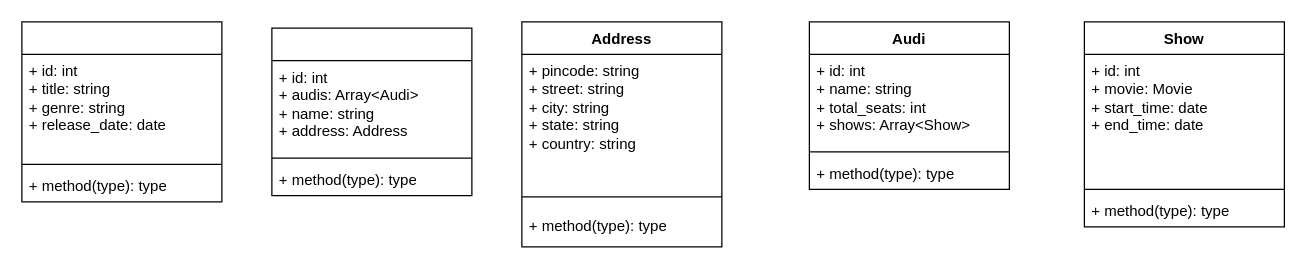
The diagram is 1306 pixels wide and 273 high, and some of its shapes have lost their labels. Each missing label, with the box of its shape:
Cinema: (271, 27, 472, 196)
Movie: (21, 21, 222, 202)
